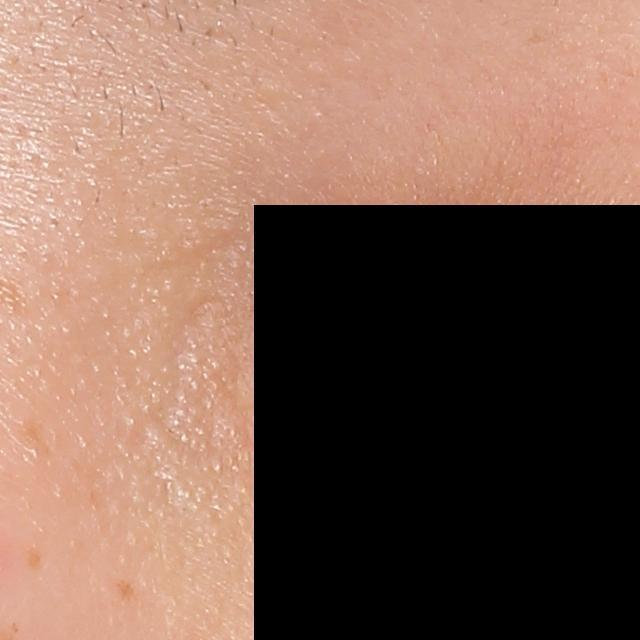melasma: (23, 542, 47, 573), (115, 578, 138, 600)
